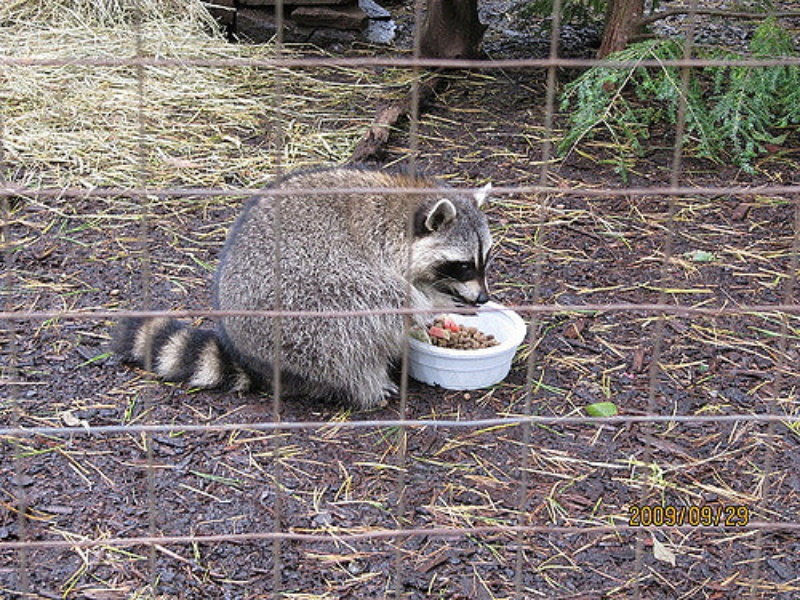raccoon: (106, 159, 500, 408)
